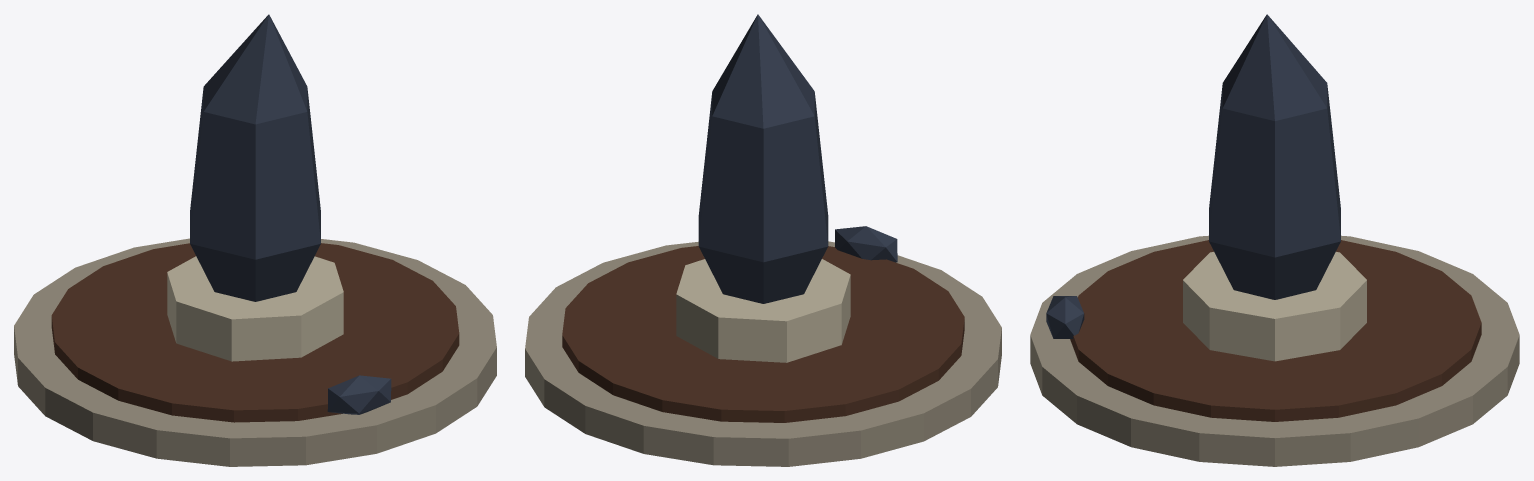
Rendered from topic_plot_not_started.glb.
The picture shows the model from 3 angles, left to right: view 1: azimuth 30°, elevation 25°; view 2: azimuth 150°, elevation 25°; view 3: azimuth 270°, elevation 25°; orthographic projection. The views are drawn at different scales.
Visible parts, largest first — view 1: topic_plot_not_started; view 2: topic_plot_not_started; view 3: topic_plot_not_started.
Boxes of the visible parts, bbox=[...] form: topic_plot_not_started: bbox=[14, 14, 496, 466]; topic_plot_not_started: bbox=[525, 14, 1001, 466]; topic_plot_not_started: bbox=[1030, 14, 1519, 466].
Size of the model in its own units: 1.54 by 1.23 by 1.54.
